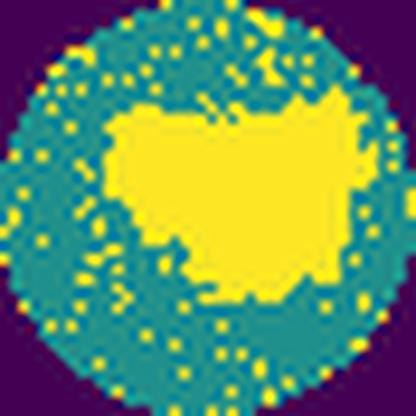Loc: (103, 85, 380, 307)
